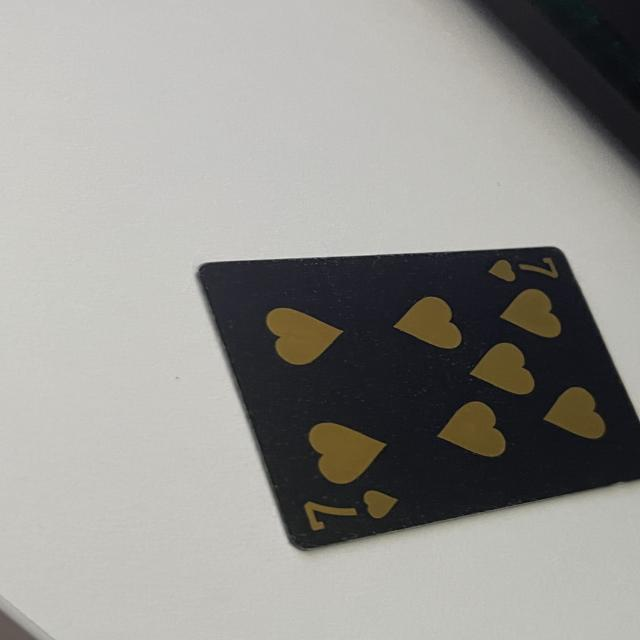7H: (293, 482, 411, 531), (482, 247, 572, 288)
